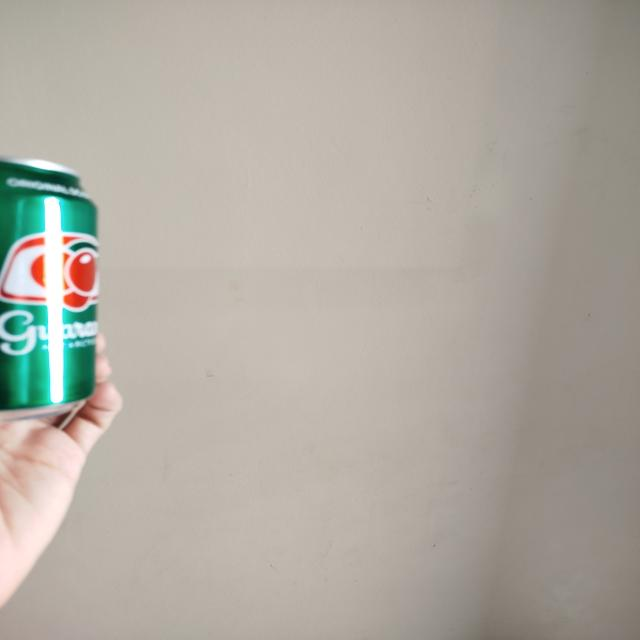Guarana: (0, 156, 100, 418)
